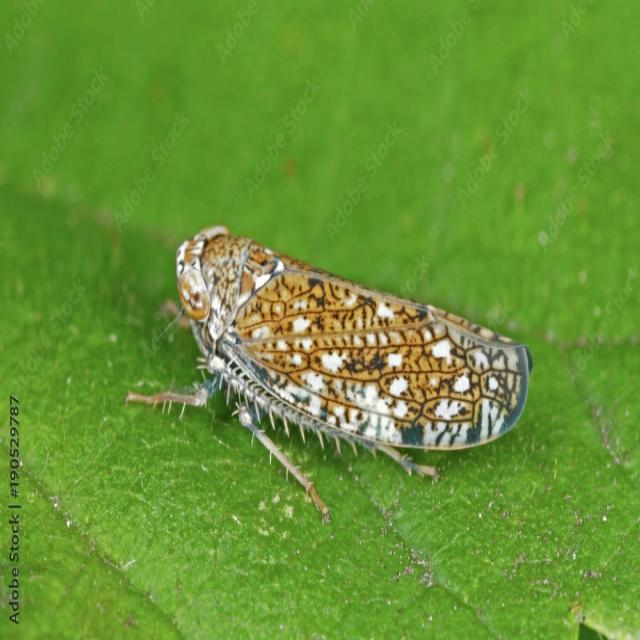Yechan: (151, 219, 548, 498)
